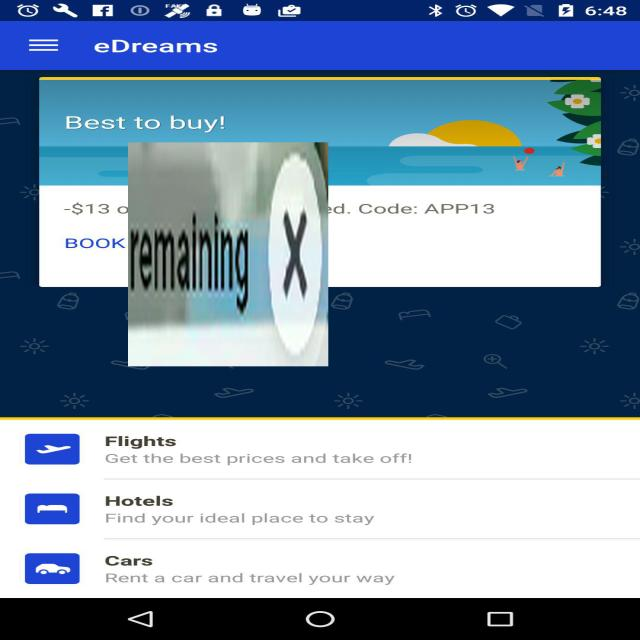misdirection: (128, 142, 328, 366)
